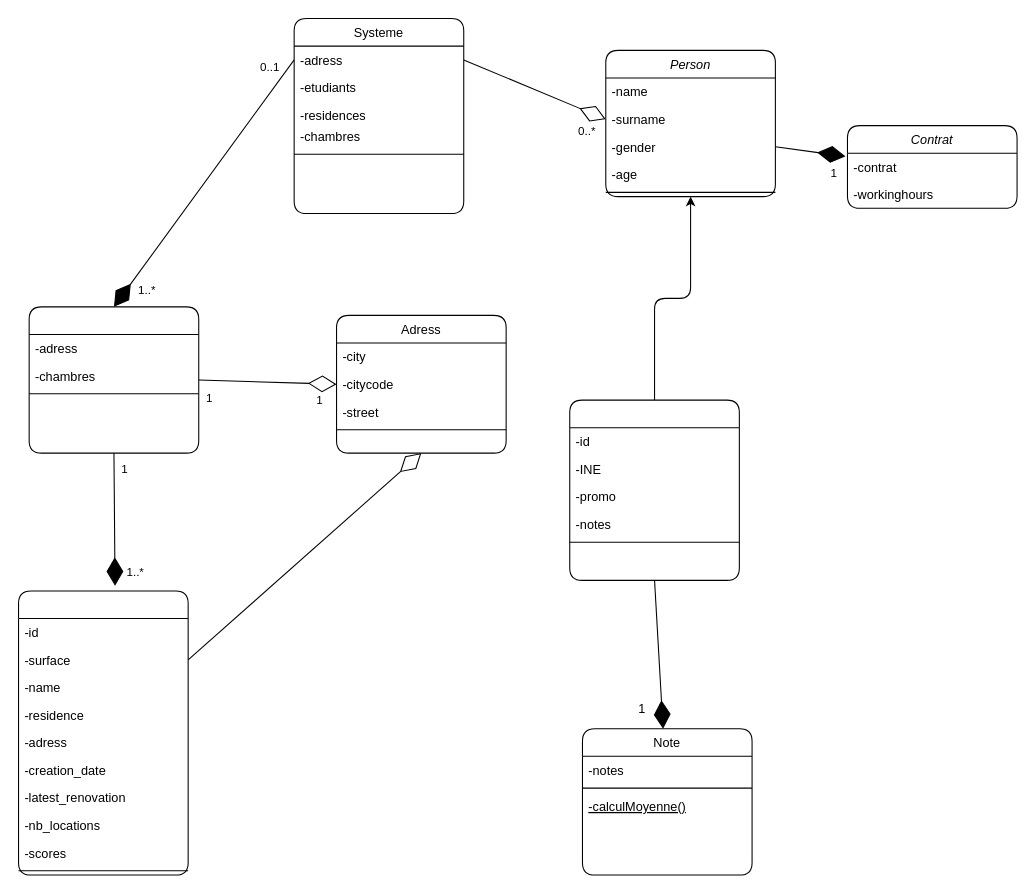
This 1036x894 diagram has some shape labels left out. The box of each missing label's shape, as (x1, y1, x2, y2) in pixels:
Chambre: (17, 590, 188, 875)
Etudiant: (569, 399, 739, 580)
Residence: (28, 306, 199, 453)
